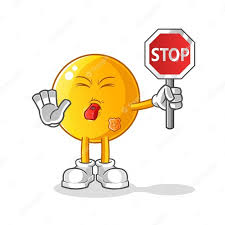SS: (143, 27, 197, 81)
